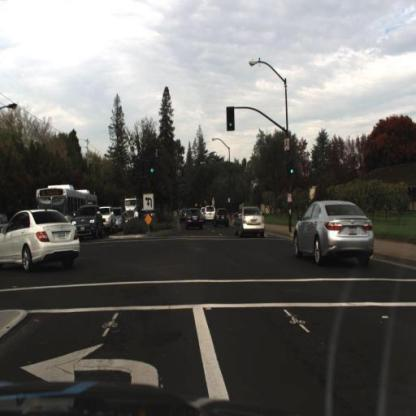car: (290, 198, 378, 273), (1, 208, 82, 276), (70, 203, 106, 244), (237, 207, 267, 240), (98, 206, 119, 236), (213, 206, 233, 232), (185, 208, 205, 232), (206, 203, 217, 226), (114, 206, 125, 228), (180, 209, 190, 225)
trafficLight: (226, 107, 238, 131), (150, 158, 157, 176)
trafficLight-Green: (289, 161, 296, 179), (290, 163, 295, 179)
truck: (37, 185, 98, 238), (124, 194, 143, 223)
